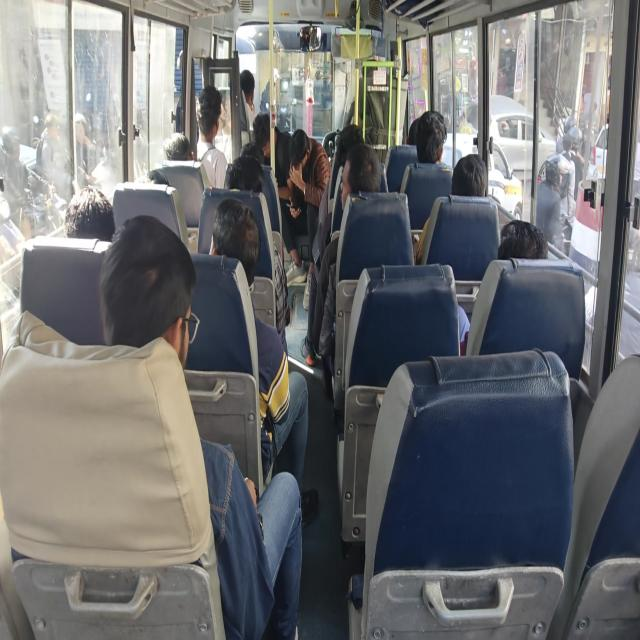person: (98, 213, 303, 639), (209, 198, 319, 526), (301, 143, 382, 366), (458, 218, 548, 351), (252, 112, 307, 280), (415, 152, 488, 264), (286, 128, 331, 284), (535, 152, 571, 252), (195, 85, 228, 189), (63, 185, 115, 242), (497, 219, 548, 260), (411, 110, 447, 164), (450, 153, 488, 196), (225, 155, 264, 192), (239, 69, 255, 133), (163, 131, 191, 161)
